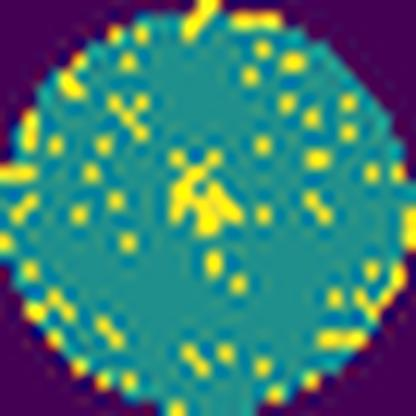Center: (169, 165, 242, 236)
